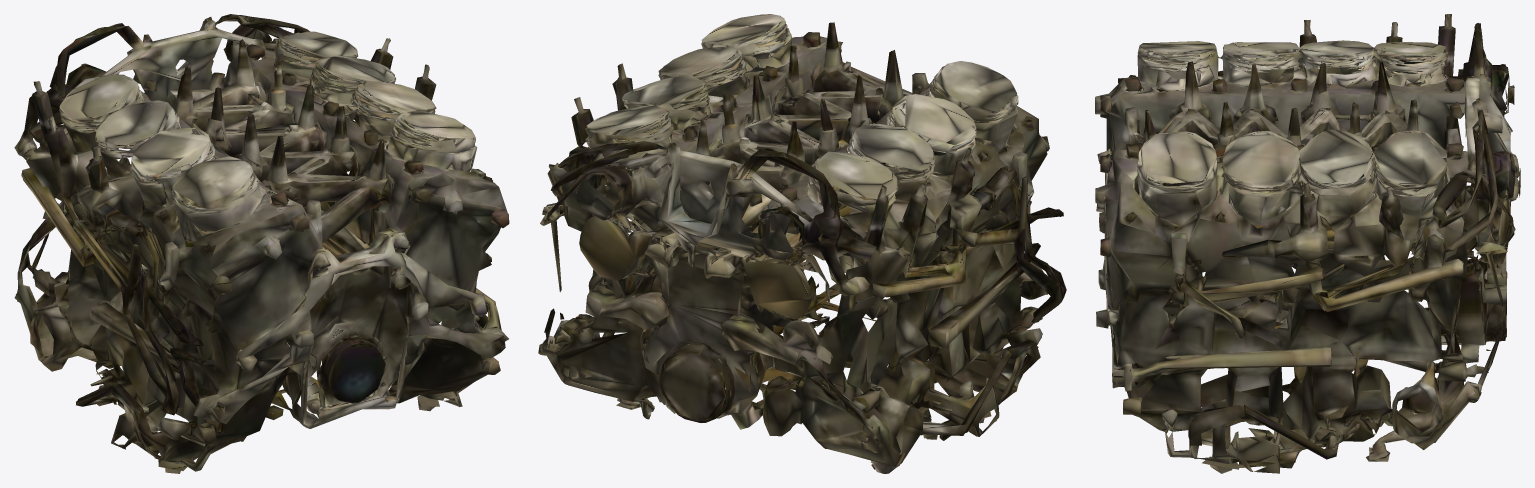
File: motor.glb
3 views of the same model, side by side, from view 1: azimuth 30°, elevation 25°; view 2: azimuth 150°, elevation 25°; view 3: azimuth 270°, elevation 25° (orthographic). The views are drawn at different scales.
Visible parts, largest first — view 1: geometry_0; view 2: geometry_0; view 3: geometry_0.
Boxes of the visible parts, box(x1,y1,x2,y2) form: geometry_0: box(14, 14, 509, 473); geometry_0: box(538, 14, 1066, 473); geometry_0: box(1095, 14, 1520, 473).
Size of the model in its own units: 0.9974 by 0.8852 by 0.9978.
Materials: 1 (1 with a texture image).
